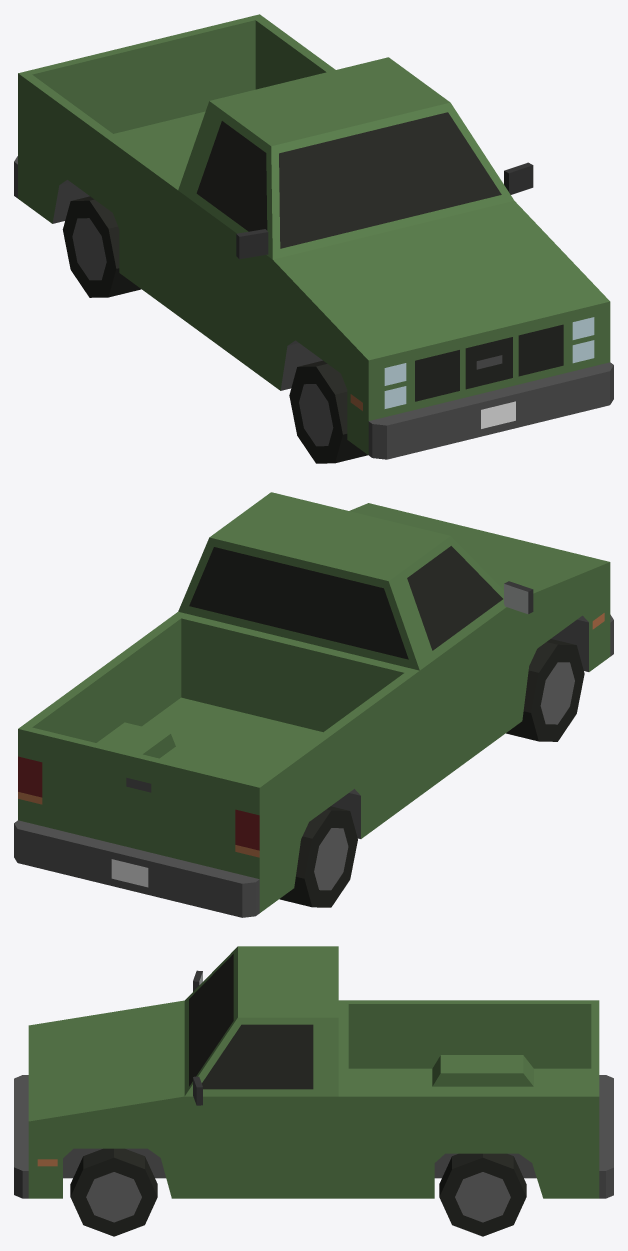
File: Veh_Pickup_02_Green.glb
3 views of the same model, one above another, from view 1: azimuth 30°, elevation 25°; view 2: azimuth 150°, elevation 25°; view 3: azimuth 270°, elevation 25° (orthographic). The views are drawn at different scales.
Parts seen in each view (by area): view 1: Pickup_02_Green, Wheel_FR, Wheel_RR; view 2: Pickup_02_Green, Wheel_FR, Wheel_RR; view 3: Pickup_02_Green, Wheel_FL, Wheel_RL.
Boxes of the visible parts, x1,y1,x2,y2 form: Pickup_02_Green: (14, 14, 613, 459); Wheel_FR: (289, 360, 367, 463); Wheel_RR: (62, 196, 141, 297); Pickup_02_Green: (14, 492, 613, 917); Wheel_FR: (506, 639, 584, 741); Wheel_RR: (279, 806, 357, 907); Pickup_02_Green: (14, 946, 613, 1198); Wheel_FL: (70, 1148, 157, 1236); Wheel_RL: (439, 1153, 526, 1236).
Bounding box in the file's own units: 1.43 × 1.18 × 3.11.
Materials: 1 (1 with a texture image).
